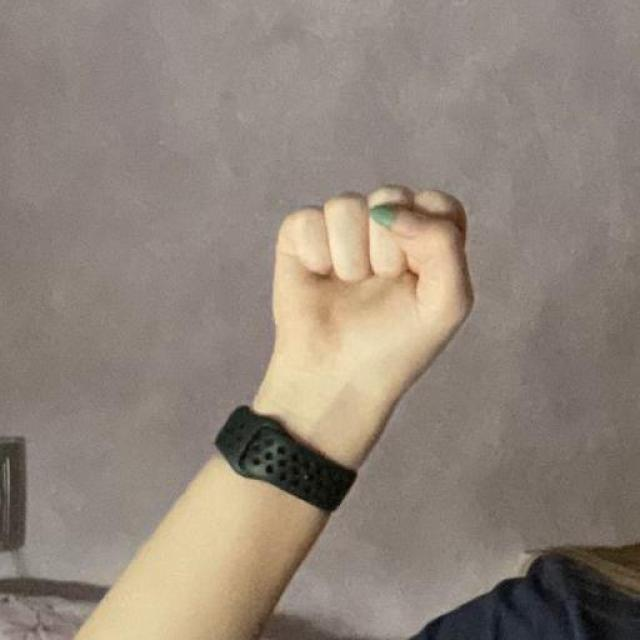hand: (250, 181, 475, 470)
